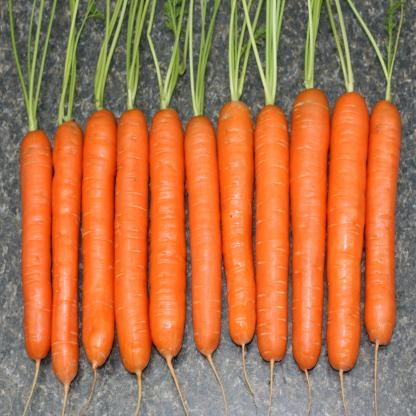--: (288, 10, 330, 382), (327, 7, 368, 380), (365, 9, 404, 364), (49, 33, 86, 400), (78, 31, 115, 380), (147, 20, 184, 364), (218, 38, 255, 374), (254, 29, 289, 382), (188, 13, 219, 391), (19, 44, 53, 383), (117, 29, 146, 398)
